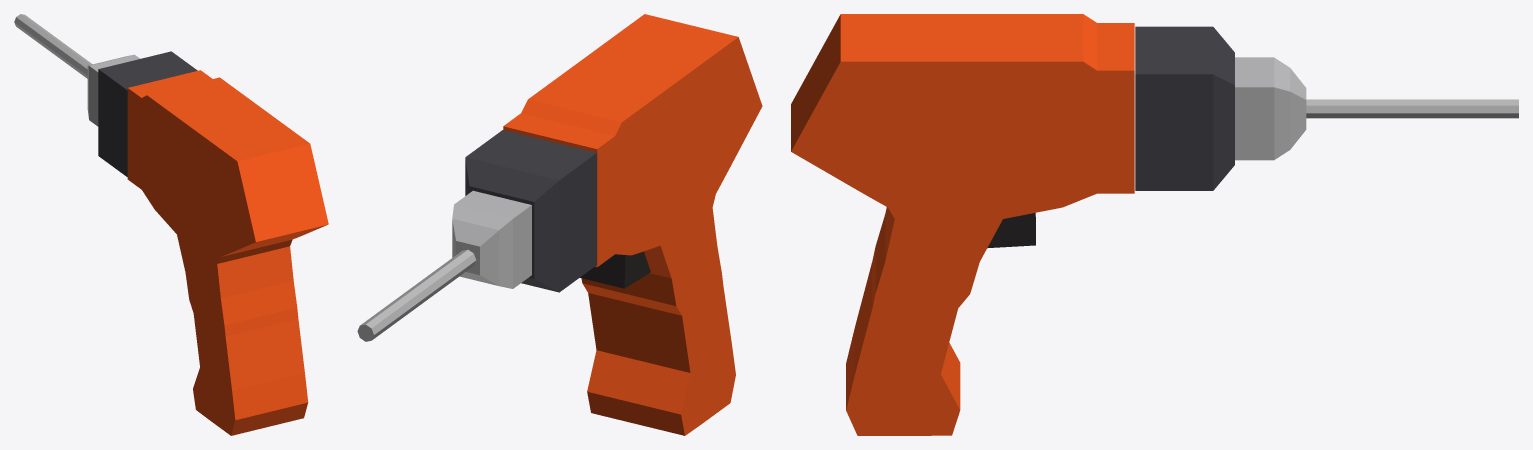
The model's file is Taladro.fbx.
The picture shows the model from 3 angles, left to right: view 1: azimuth 30°, elevation 25°; view 2: azimuth 150°, elevation 25°; view 3: azimuth 270°, elevation 25°; orthographic projection. The views are drawn at different scales.
Visible parts, largest first — view 1: Cube.004, Cube.005, Cylinder.001, Cube.006; view 2: Cube.004, Cube.005, Cube.006, Cylinder.001, Cube.007; view 3: Cube.004, Cube.005, Cube.006, Cylinder.001, Cube.007.
Part boxes in pixels (<box>): Cube.004: <box>127,70,328,435</box>; Cube.005: <box>98,51,197,176</box>; Cylinder.001: <box>14,14,92,78</box>; Cube.006: <box>87,54,139,126</box>; Cube.004: <box>503,14,762,435</box>; Cube.005: <box>465,130,596,292</box>; Cube.006: <box>452,190,531,288</box>; Cylinder.001: <box>357,249,476,341</box>; Cube.007: <box>580,251,650,288</box>; Cube.004: <box>791,14,1134,435</box>; Cube.005: <box>1135,26,1234,190</box>; Cube.006: <box>1235,57,1306,160</box>; Cylinder.001: <box>1306,99,1518,118</box>; Cube.007: <box>987,213,1035,248</box>.
Size of the model in its own units: 116 by 423 by 746.
